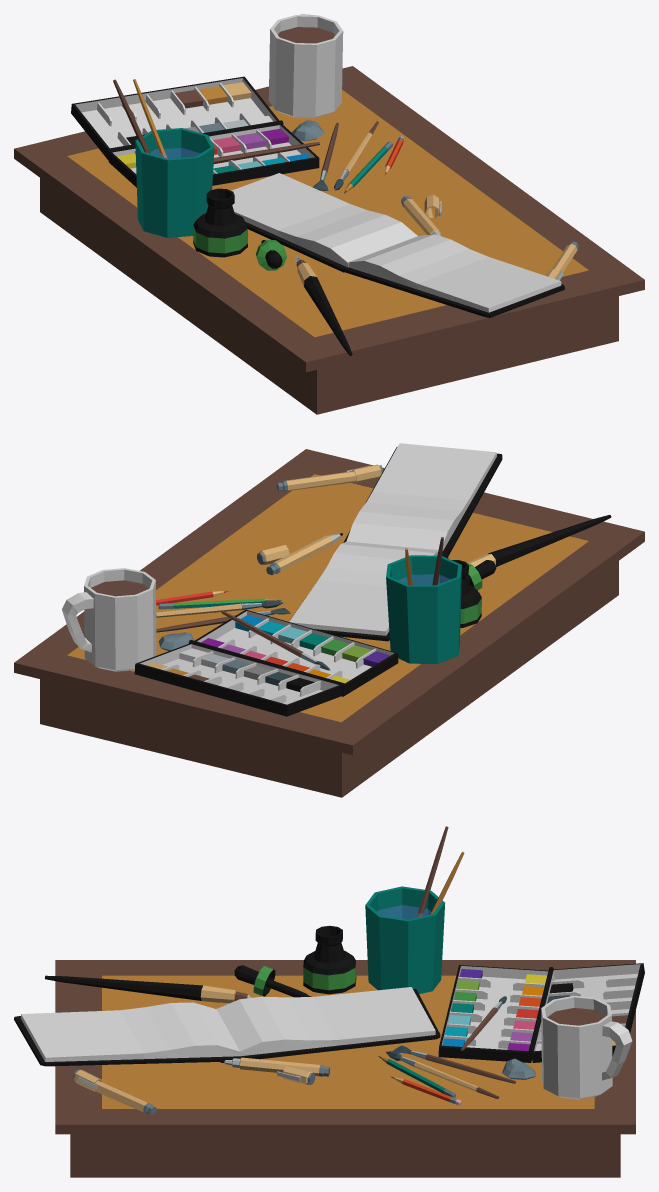
3 renders of one model, top to bottom at view 1: azimuth 30°, elevation 25°; view 2: azimuth 150°, elevation 25°; view 3: azimuth 270°, elevation 25°, orthographic.
Parts seen in each view (by area): view 1: node_MeshObject-1104482304-PolyPaper23; view 2: node_MeshObject-1104482304-PolyPaper23; view 3: node_MeshObject-1104482304-PolyPaper23.
Part boxes in pixels (bbox=[...]): node_MeshObject-1104482304-PolyPaper23: bbox=[14, 14, 644, 414]; node_MeshObject-1104482304-PolyPaper23: bbox=[14, 443, 644, 797]; node_MeshObject-1104482304-PolyPaper23: bbox=[14, 826, 644, 1177].
Bounding box in the file's own units: 2.33 × 1.31 × 3.78.
